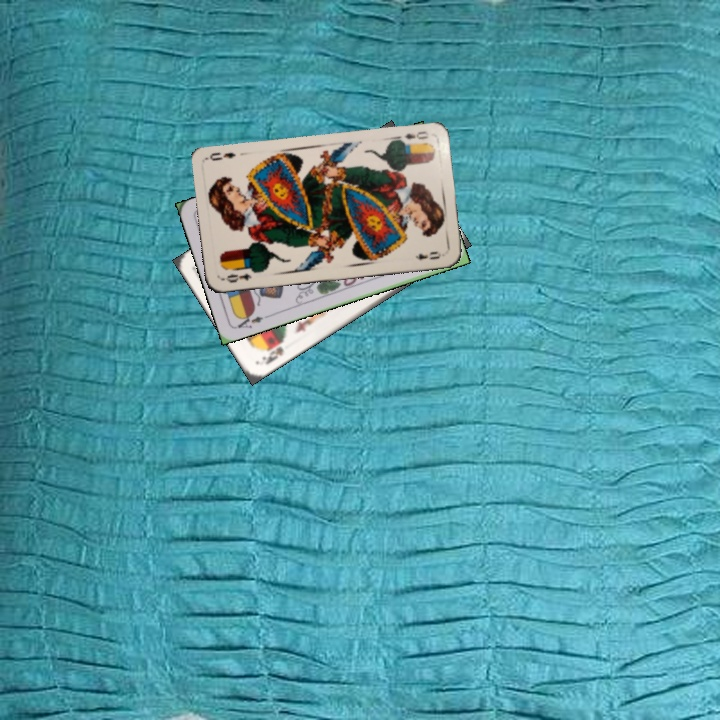EA: (232, 309, 265, 331)
EO: (393, 127, 431, 147), (218, 269, 254, 285)
SK: (258, 342, 286, 367)
